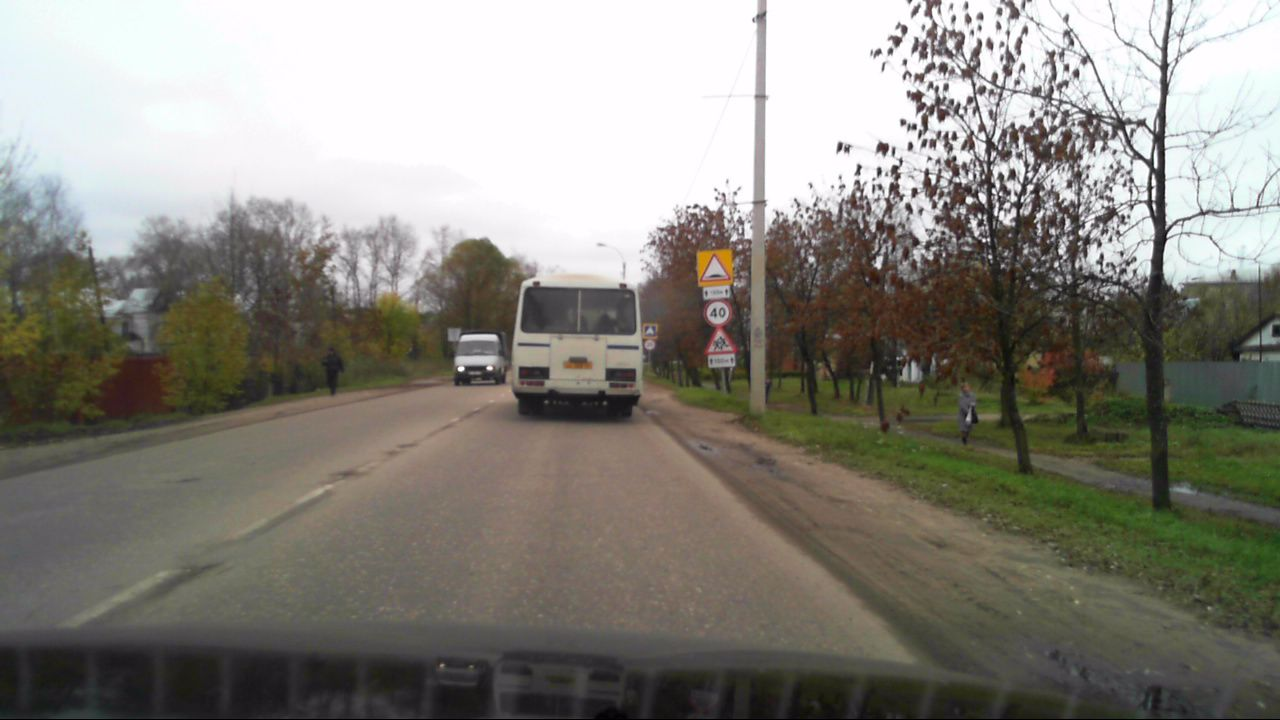speed_warning_40: (703, 299, 732, 326)
